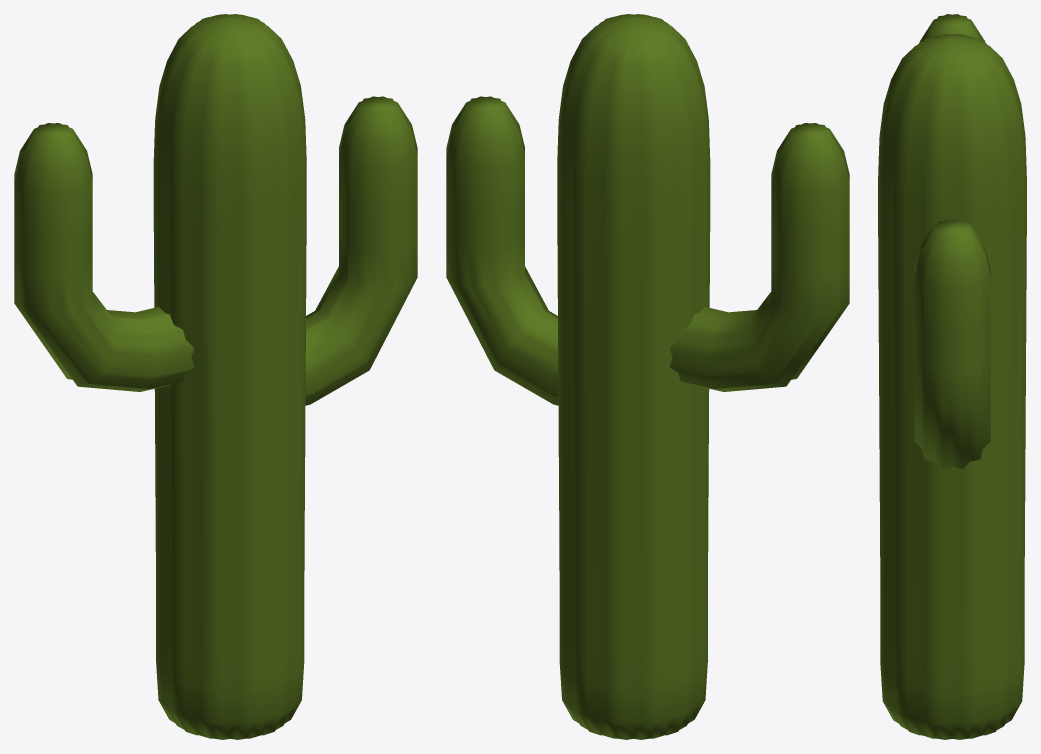
The model's file is cactusglb.glb.
3 renders of one model, left to right at view 1: azimuth 30°, elevation 25°; view 2: azimuth 150°, elevation 25°; view 3: azimuth 270°, elevation 25°, orthographic. The views are drawn at different scales.
Parts seen in each view (by area): view 1: Cactus; view 2: Cactus; view 3: Cactus.
Boxes of the visible parts, x1,y1,x2,y2 form: Cactus: (14,14,417,739); Cactus: (446,14,849,739); Cactus: (878,14,1026,739).
Bounding box in the file's own units: 4.3 × 7.42 × 1.45.
